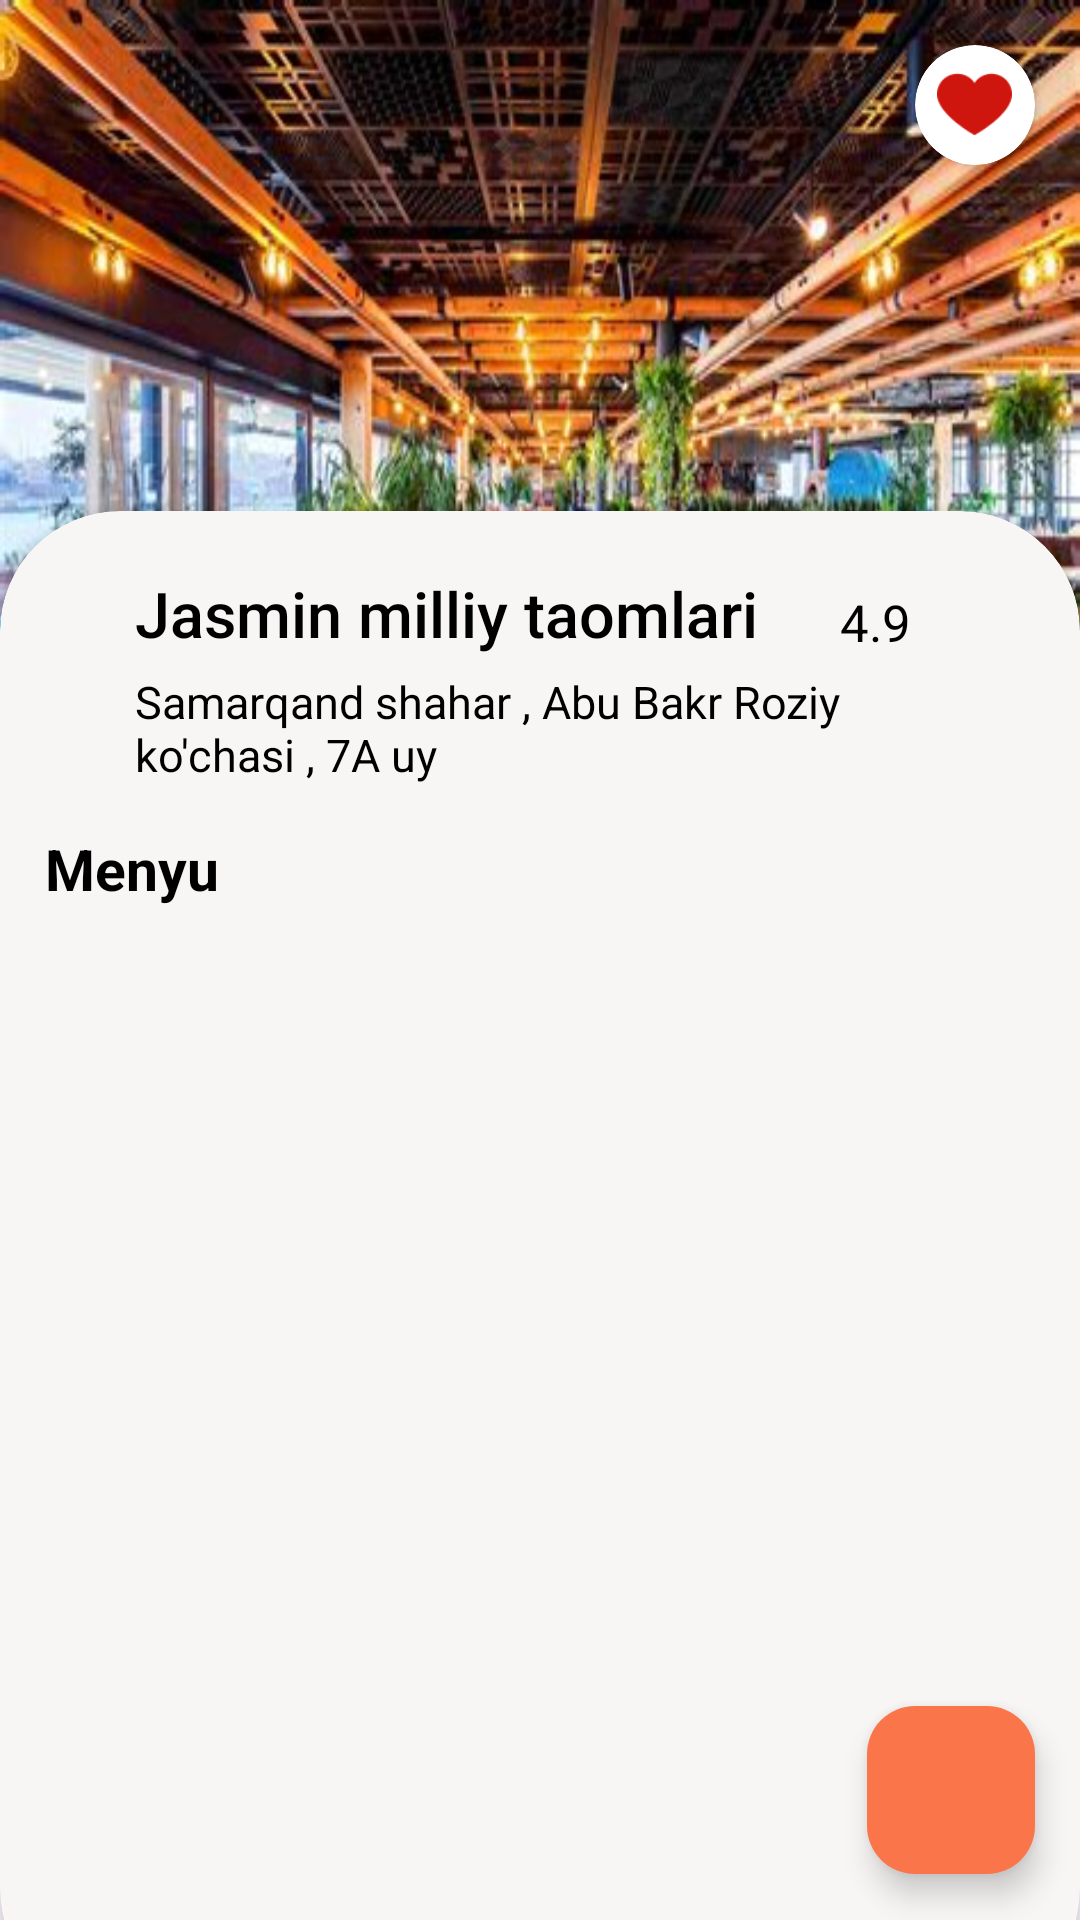

Screen size 1080*1920. Icon name, then its box in pixels as bbox=[x1, y1, x2, y2]:
hear full: bbox=[937, 73, 1012, 135]
